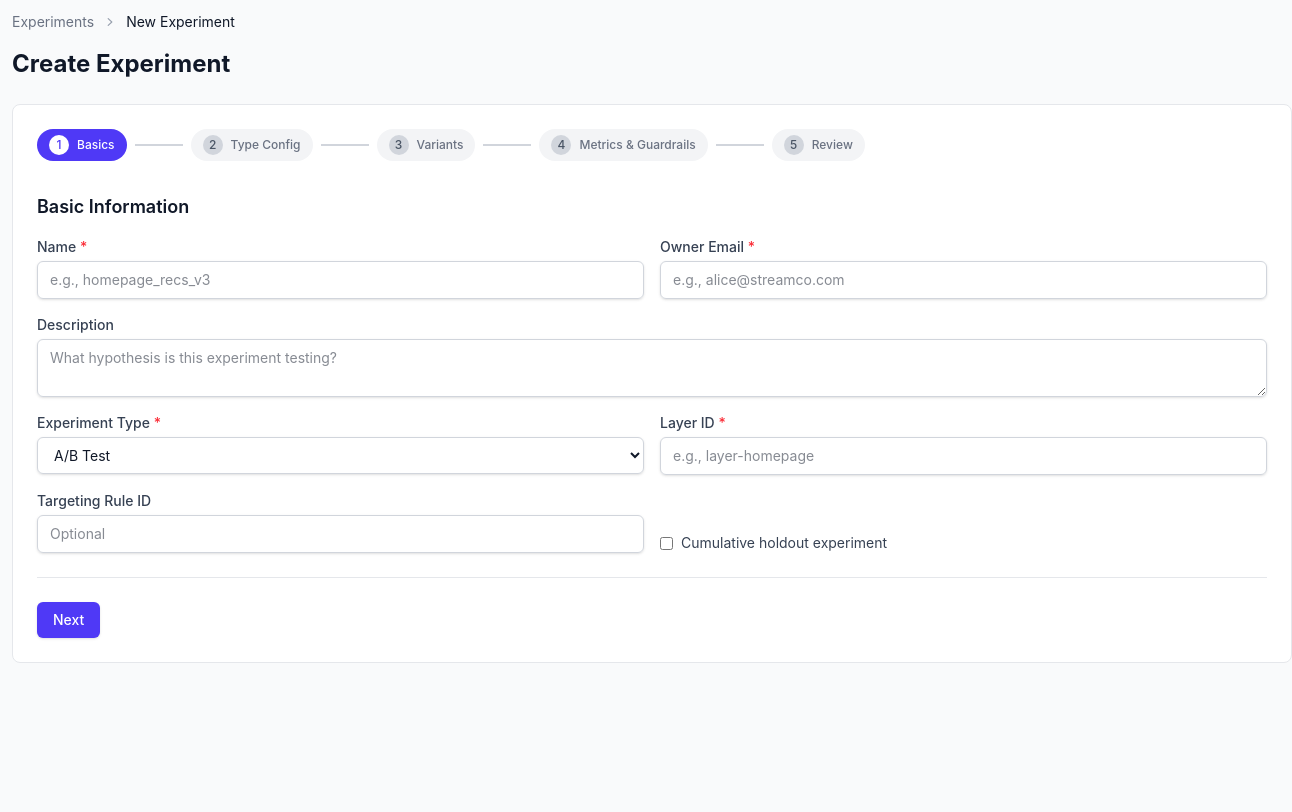
Experiment Creation Wizard › type selection changes step 2 content - INTERLEAVING shows method field
Select "Interleaving" in the dropdown labelled "Experiment Type *" at (340,456), box [37,437,644,474]
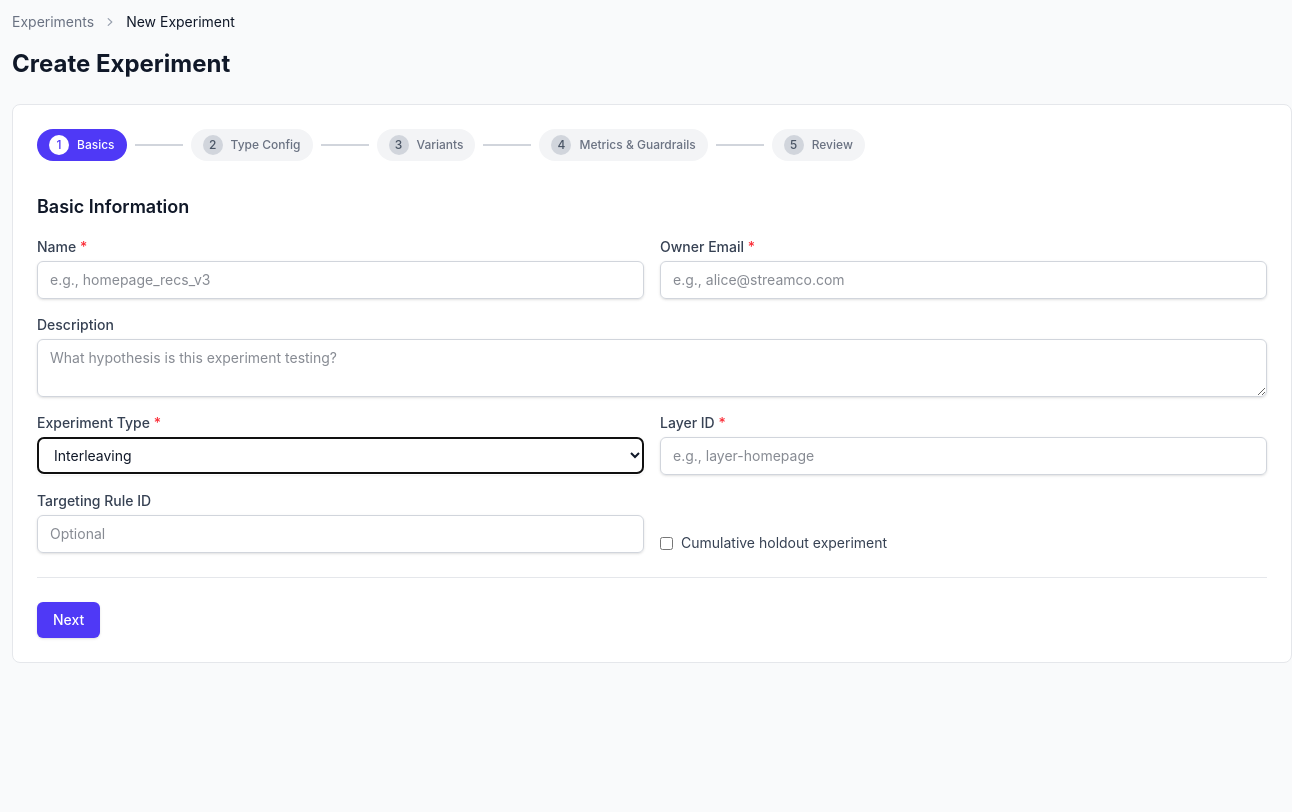
Type "my_experiment" into the field labelled "Name *".
click(340, 280); type("my_experiment")  # box [37,261,644,299]
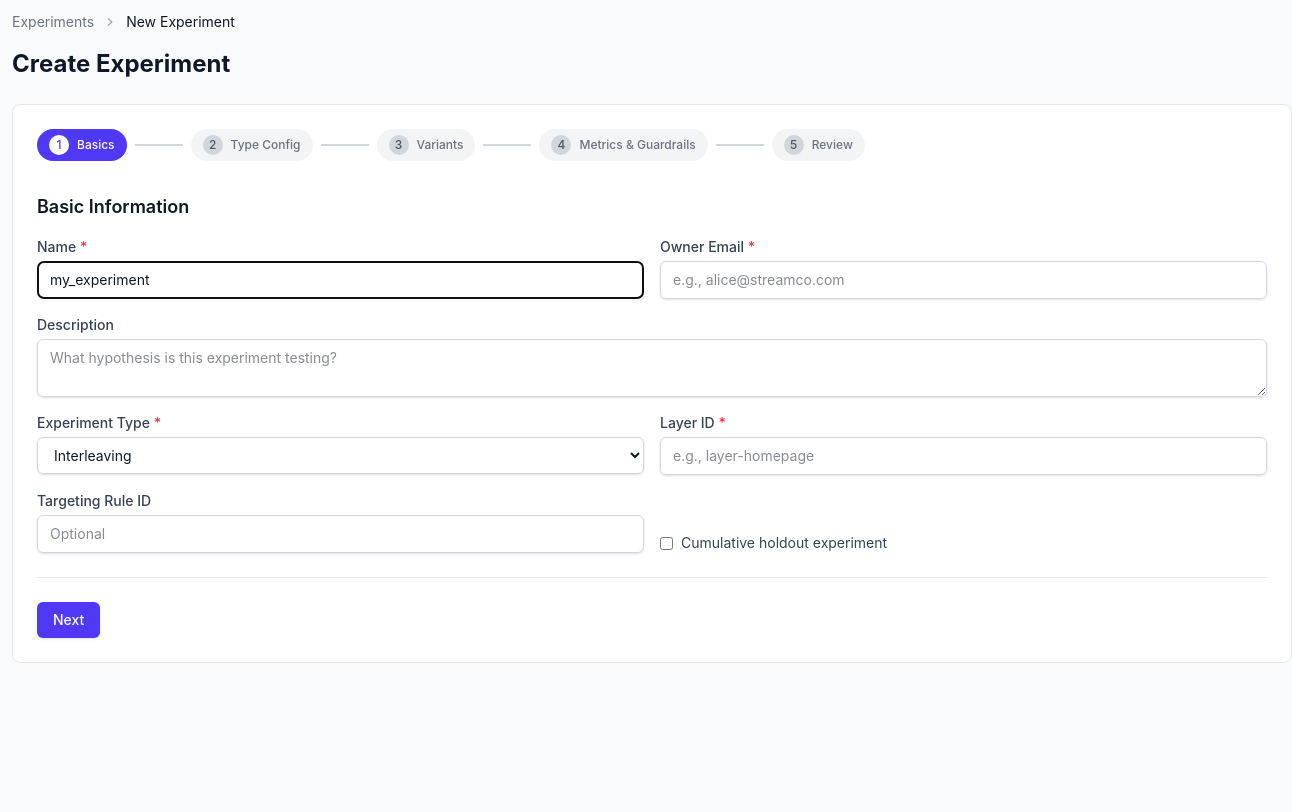
Type "test@streamco.com" into the field labelled "Owner Email *".
click(964, 280); type("test@streamco.com")  # box [660,261,1267,299]
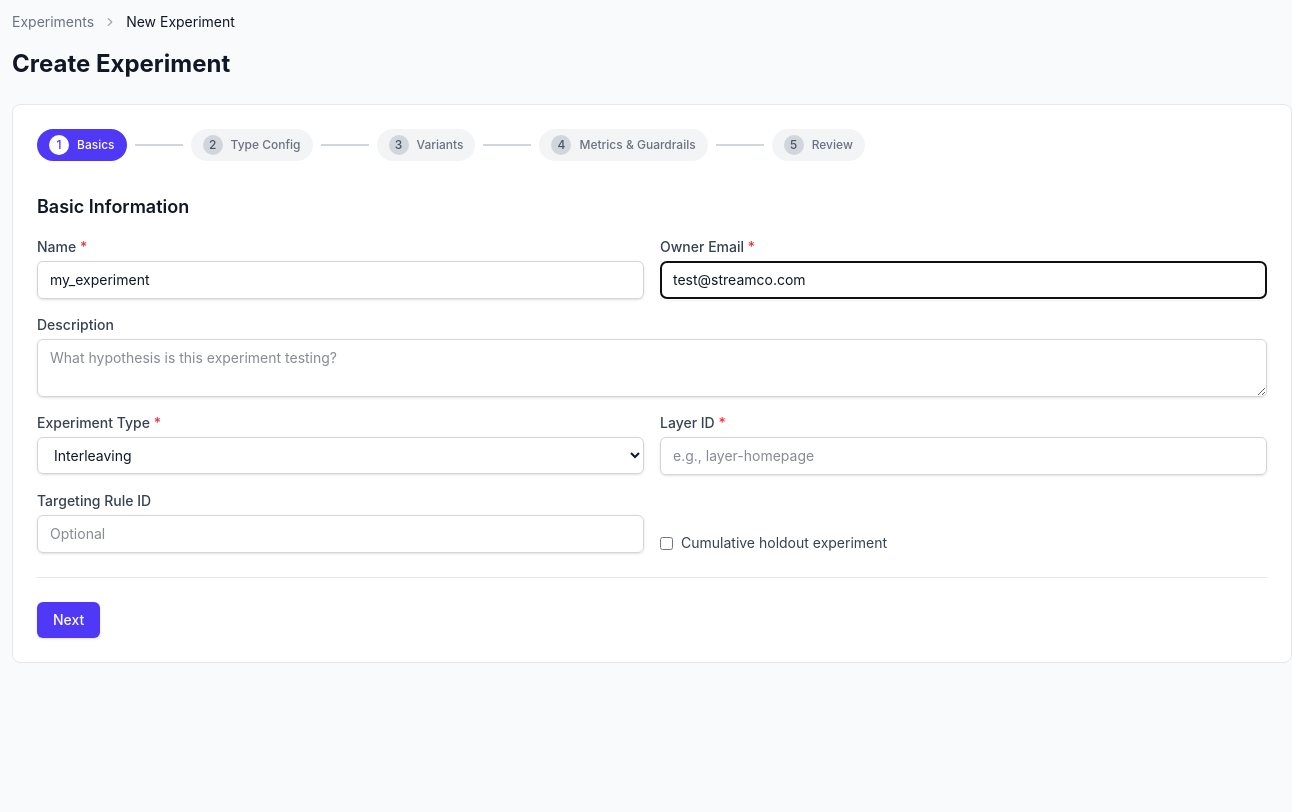
Type "layer-test" into the field labelled "Layer ID *".
click(964, 456); type("layer-test")  # box [660,437,1267,475]
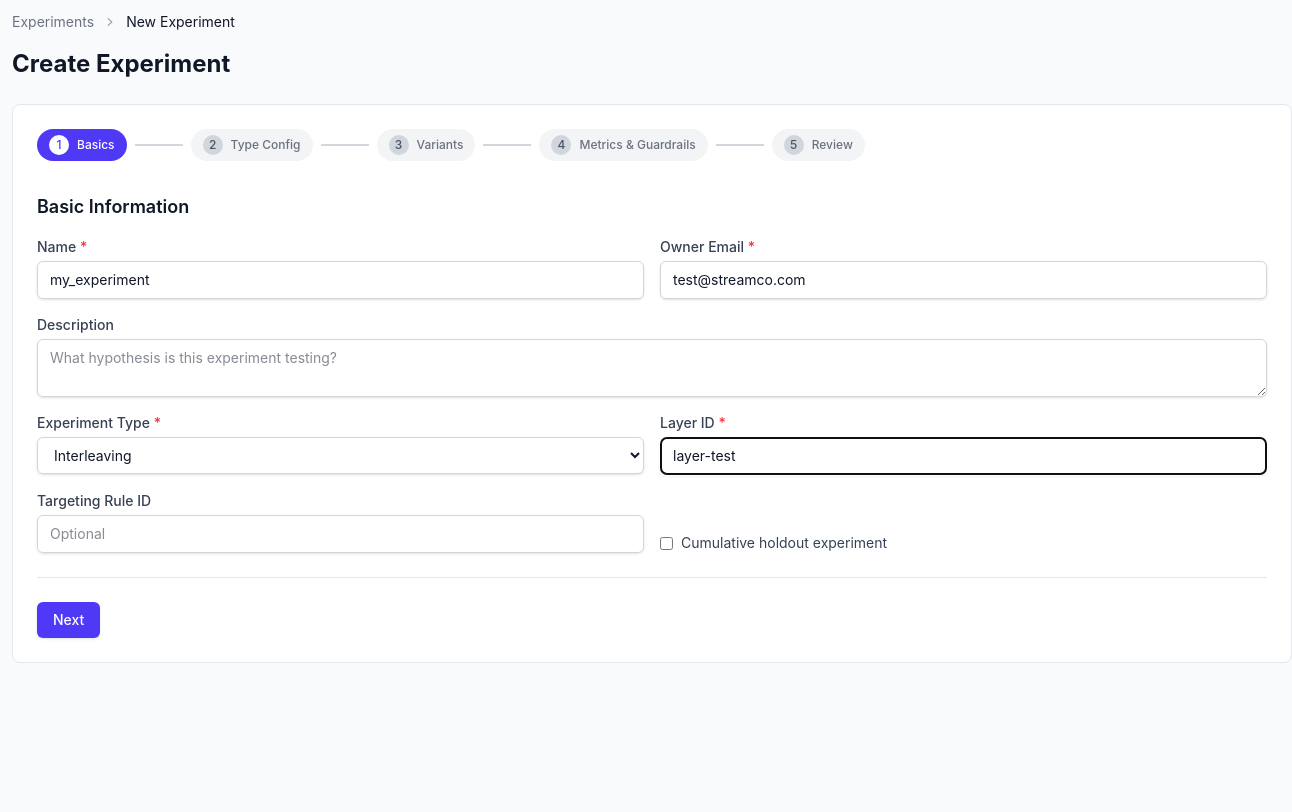
Click the button "Next".
click(69, 620)  # box [37,602,100,638]
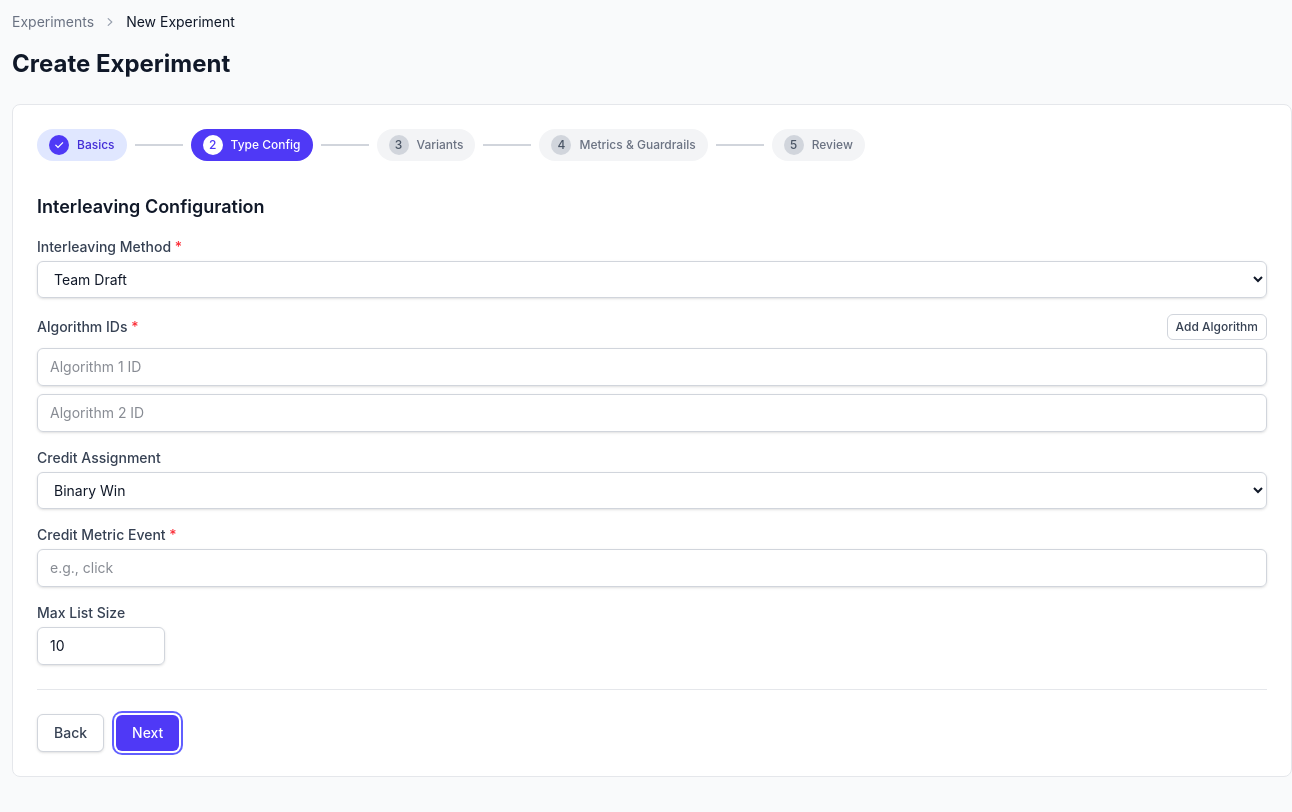
Expected: the dropdown labelled "Interleaving Method *" is shown, [37,261,1267,298]
Expected: the field labelled "Credit Metric Event *" is shown, [37,549,1267,587]
